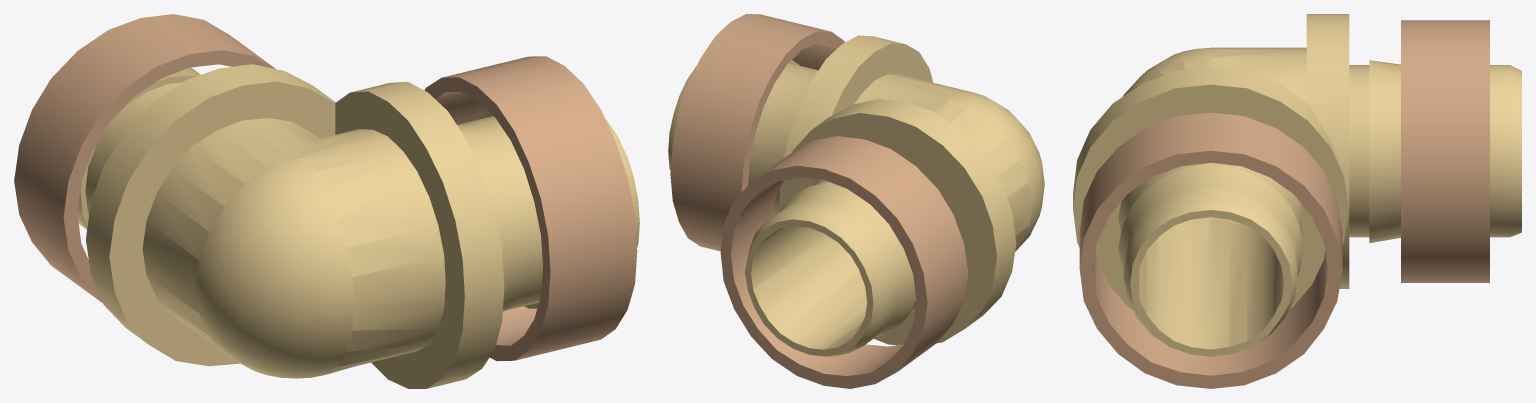
File: pipes_supply__softener-yes_and_plumbing-pex_and_shutoff_extra-attic+none.glb
3 views of the same model, side by side, from view 1: azimuth 30°, elevation 25°; view 2: azimuth 150°, elevation 25°; view 3: azimuth 270°, elevation 25° (orthographic). The views are drawn at different scales.
Visible parts, largest first — view 1: fit_elbow_pipe_supply_from_softener__pex; view 2: fit_elbow_pipe_supply_from_softener__pex; view 3: fit_elbow_pipe_supply_from_softener__pex.
Part boxes in pixels (box(x1,y1,x2,y2)): fit_elbow_pipe_supply_from_softener__pex: box(14, 14, 639, 388); fit_elbow_pipe_supply_from_softener__pex: box(668, 14, 1044, 388); fit_elbow_pipe_supply_from_softener__pex: box(1073, 14, 1521, 388).
Bounding box in the file's own units: 0.0414 × 0.0254 × 0.0413.
